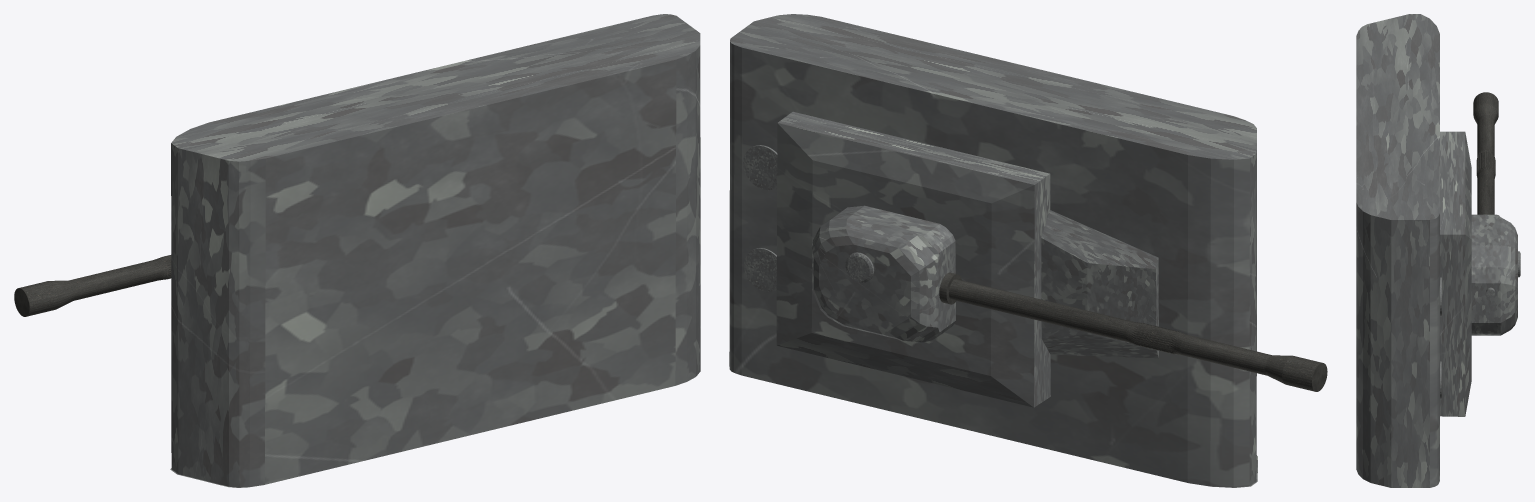
Rendered from tank2.fbx.
The picture shows the model from 3 angles, left to right: view 1: azimuth 30°, elevation 25°; view 2: azimuth 150°, elevation 25°; view 3: azimuth 270°, elevation 25°; orthographic projection. The views are drawn at different scales.
Visible parts, largest first — view 1: corpus, tube; view 2: corpus, tower, tube; view 3: corpus, tower, tube.
Part boxes in pixels (bbox=[...]): corpus: bbox=[170, 14, 700, 487]; tube: bbox=[14, 255, 171, 316]; corpus: bbox=[729, 14, 1257, 487]; tower: bbox=[811, 205, 955, 342]; tube: bbox=[939, 272, 1327, 391]; corpus: bbox=[1356, 14, 1471, 487]; tower: bbox=[1471, 214, 1520, 335]; tube: bbox=[1473, 92, 1498, 214].
Size of the model in its own units: 286 by 1023 by 516.
